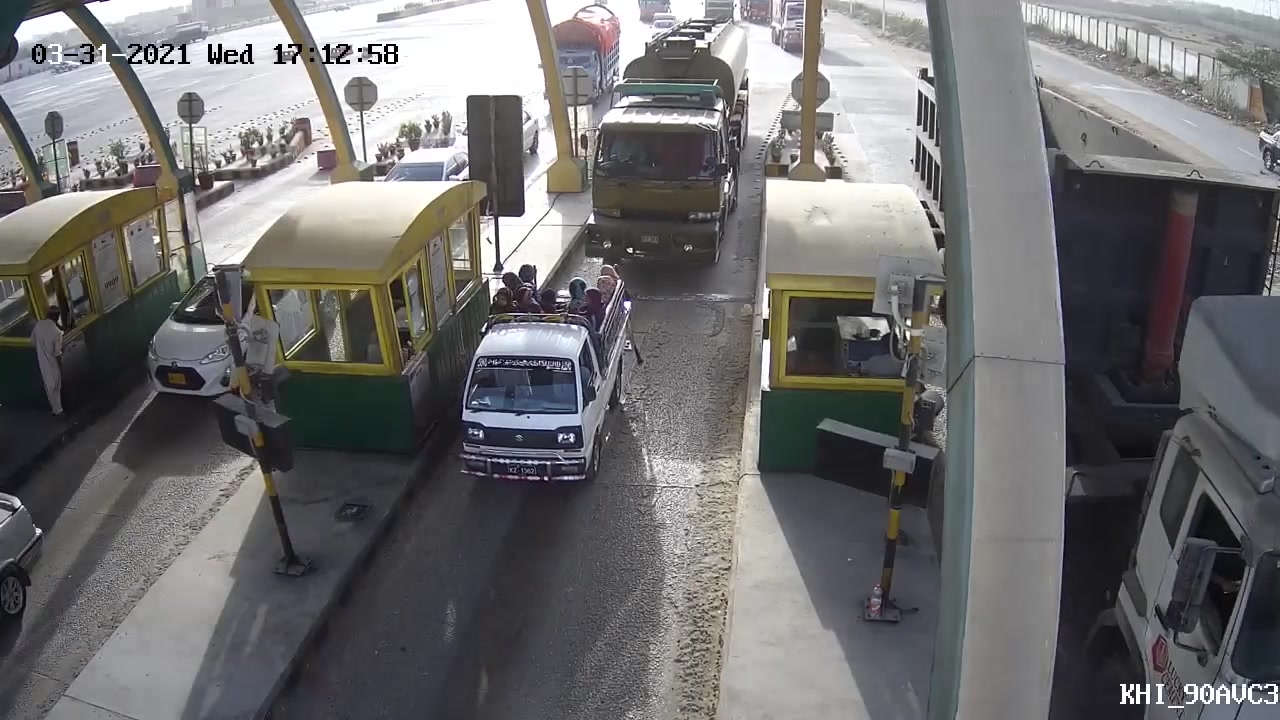F1: (442, 273, 642, 502)
F6: (588, 9, 754, 272)
